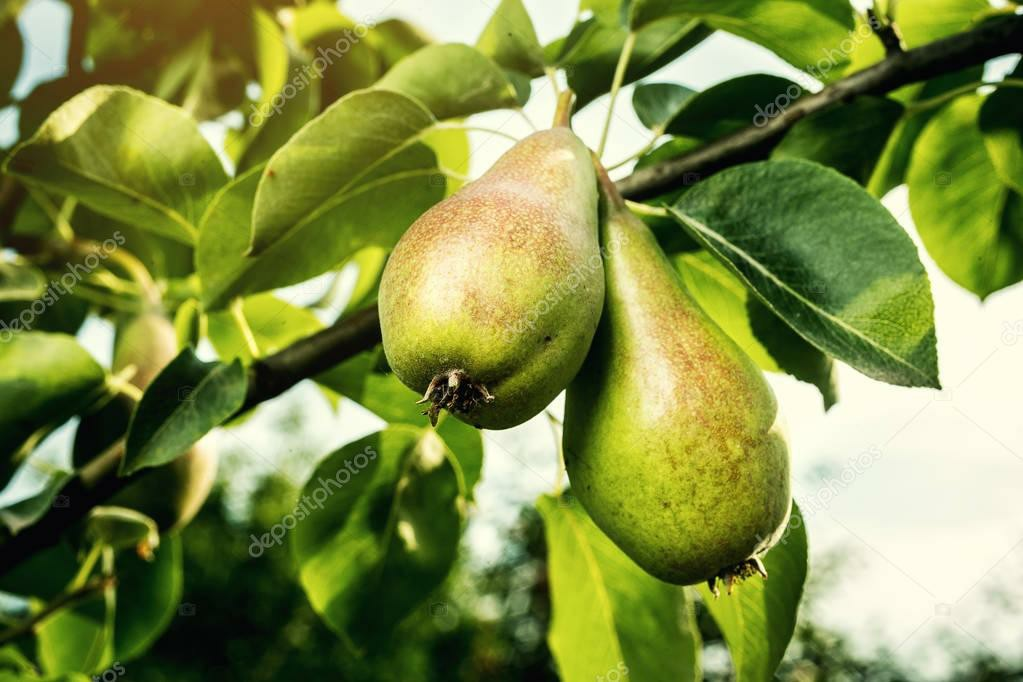pear: (560, 166, 793, 583), (378, 128, 606, 429)
